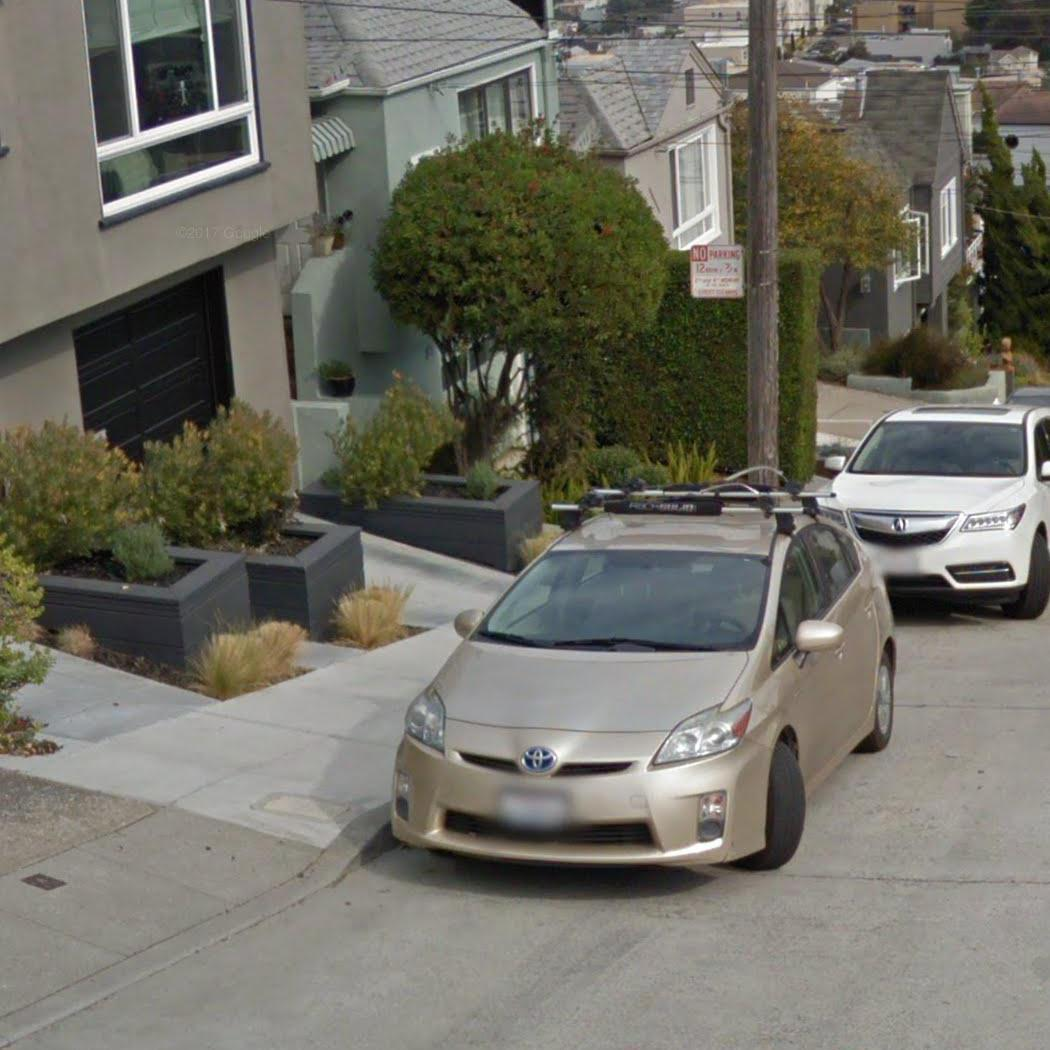No Parking: (687, 243, 748, 301)
